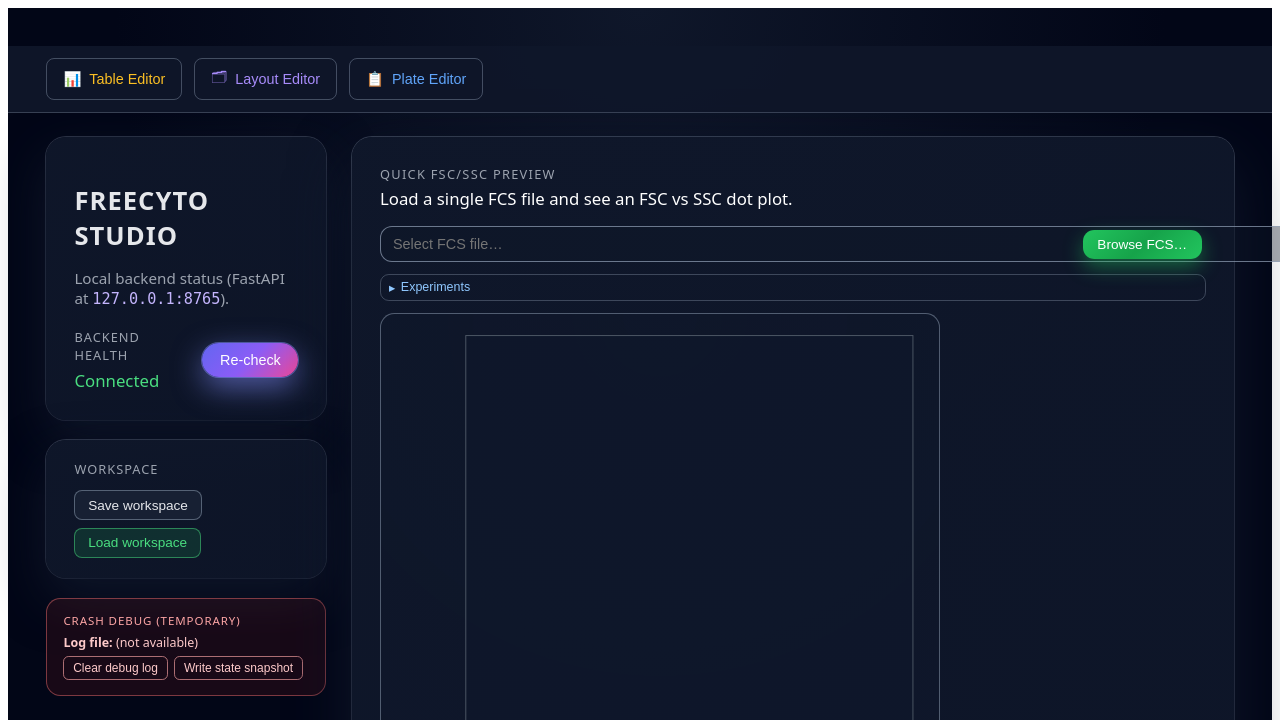
Test: Compensation apply — click and refetch › shows error when compensation matrix is rejected by backend
Check: the text "Connected" is shown, box [74, 369, 159, 392]
Click the button "Browse FCS…".
click(1142, 244)  # box [1083, 230, 1202, 259]
(page scrolled)
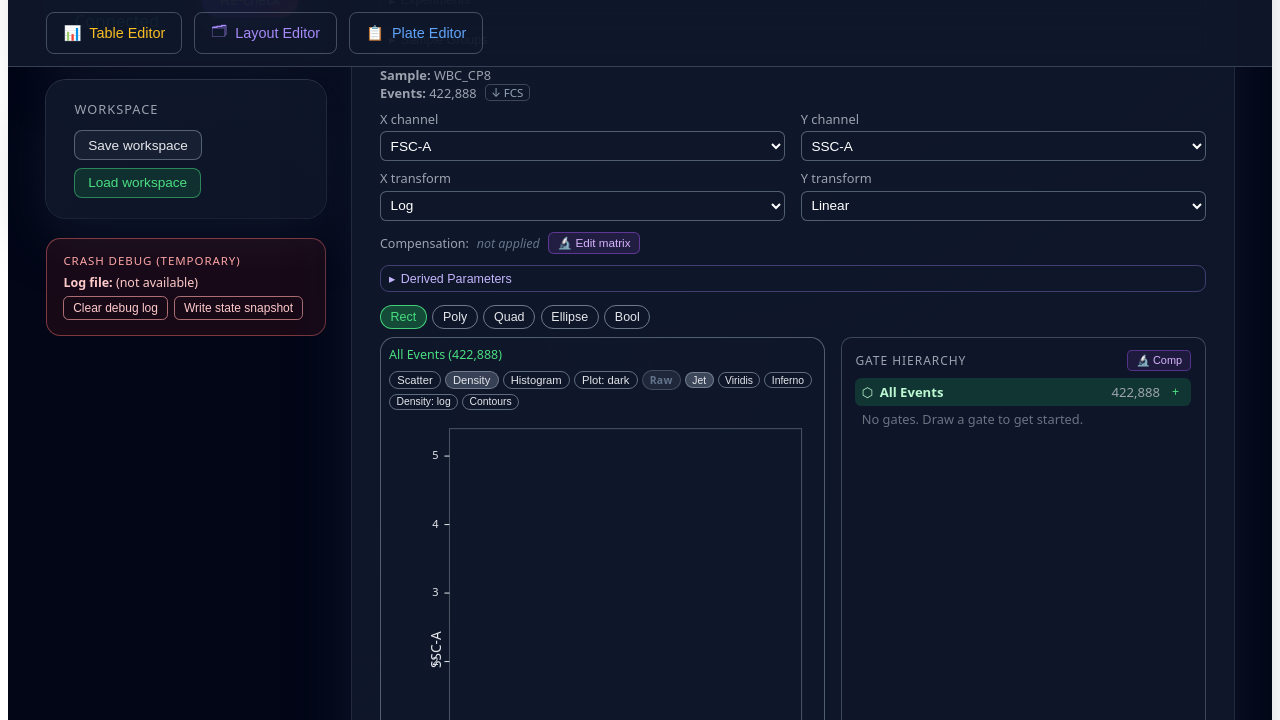
Check: the element with test id "file-event-count" is shown, box [380, 84, 530, 102]
Check: the button "🔬 Comp" is shown
Click the button "🔬 Comp".
click(1159, 360)  # box [1127, 350, 1191, 371]
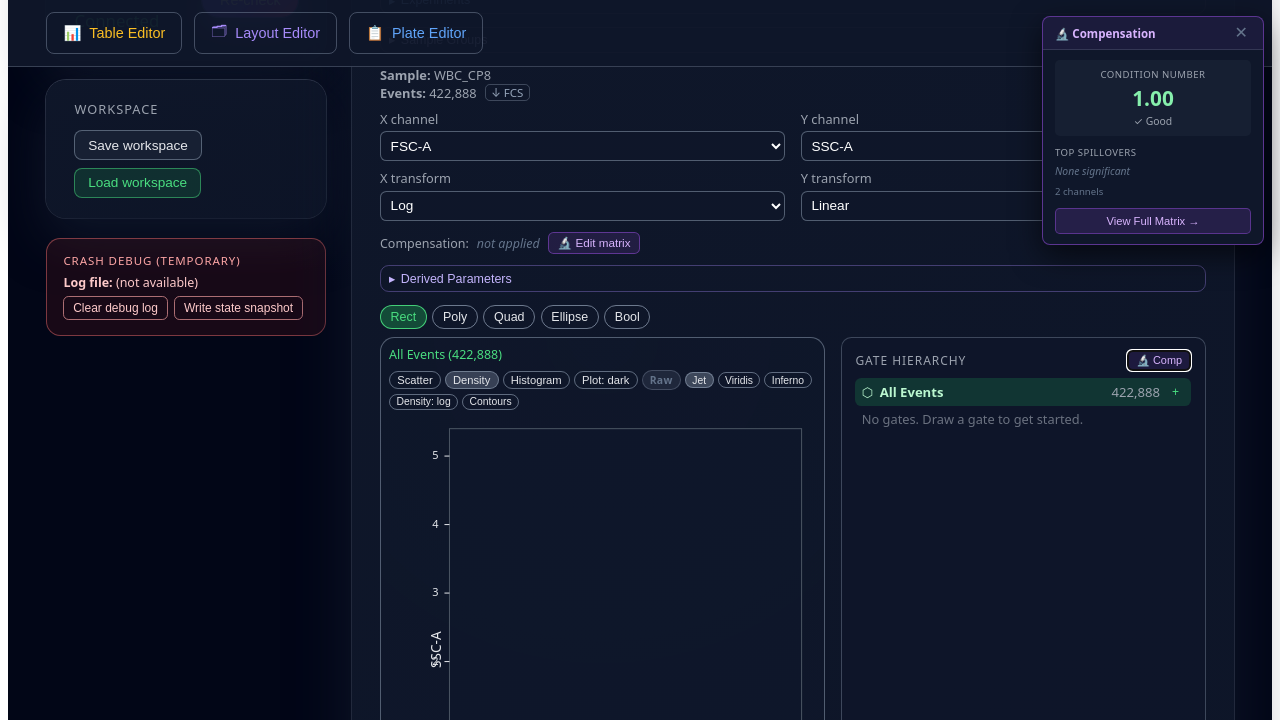
Check: the button "View Full Matrix →" is shown
Click the button "View Full Matrix →".
click(1153, 221)  # box [1055, 208, 1251, 234]
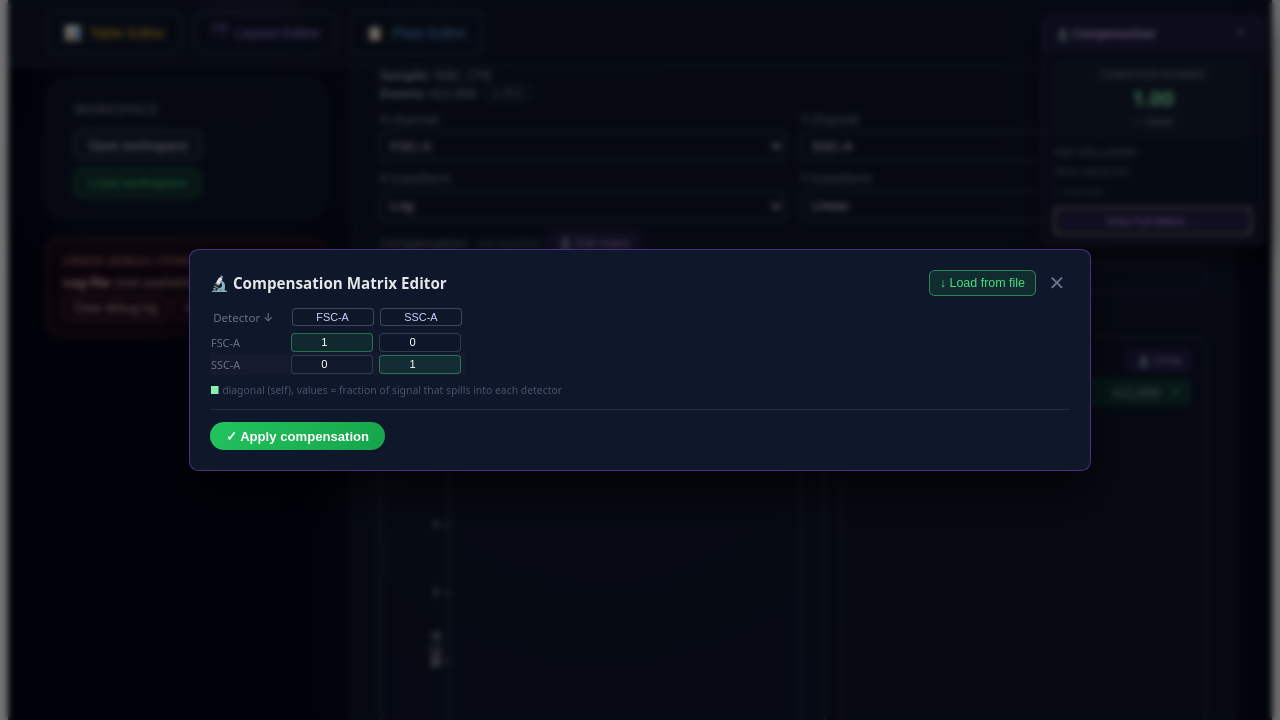
Check: the button "✓ Apply compensation" is shown
Click the button "✓ Apply compensation".
click(298, 436)  # box [210, 422, 385, 450]
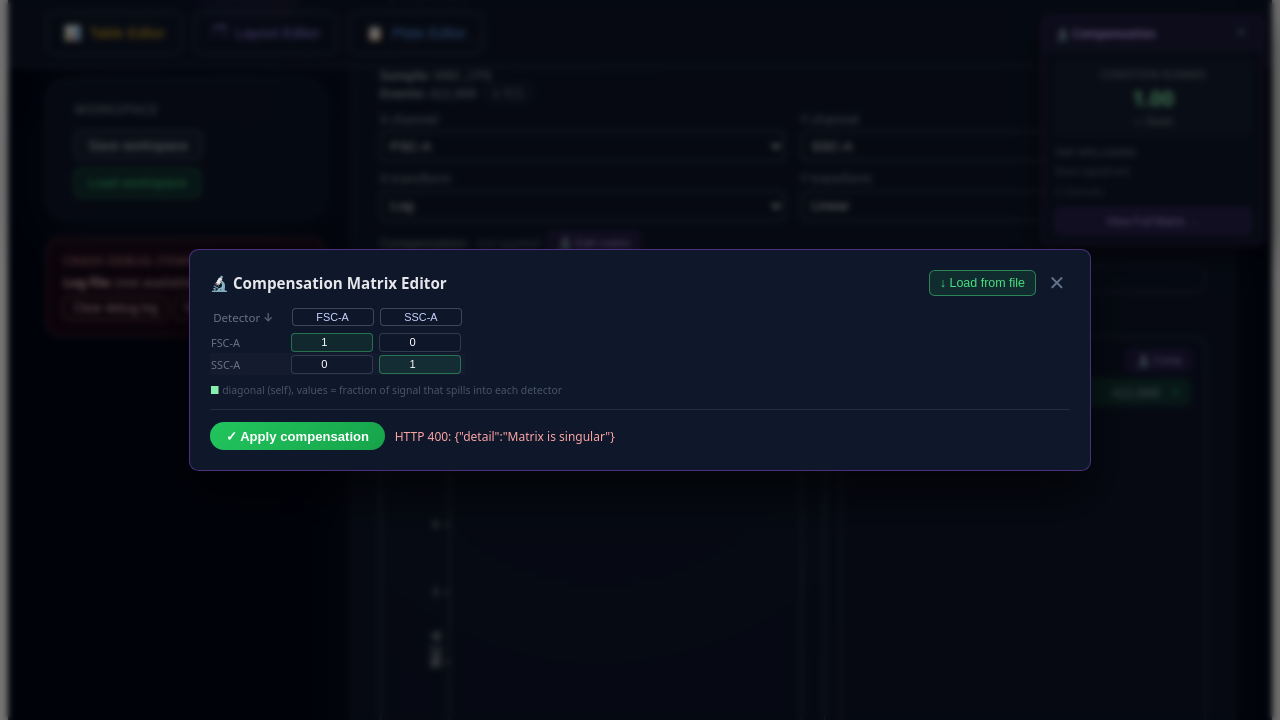
Check: the text "HTTP 400: {\"detail\":\"Matrix is singular\"}" is shown, box [395, 428, 615, 444]
